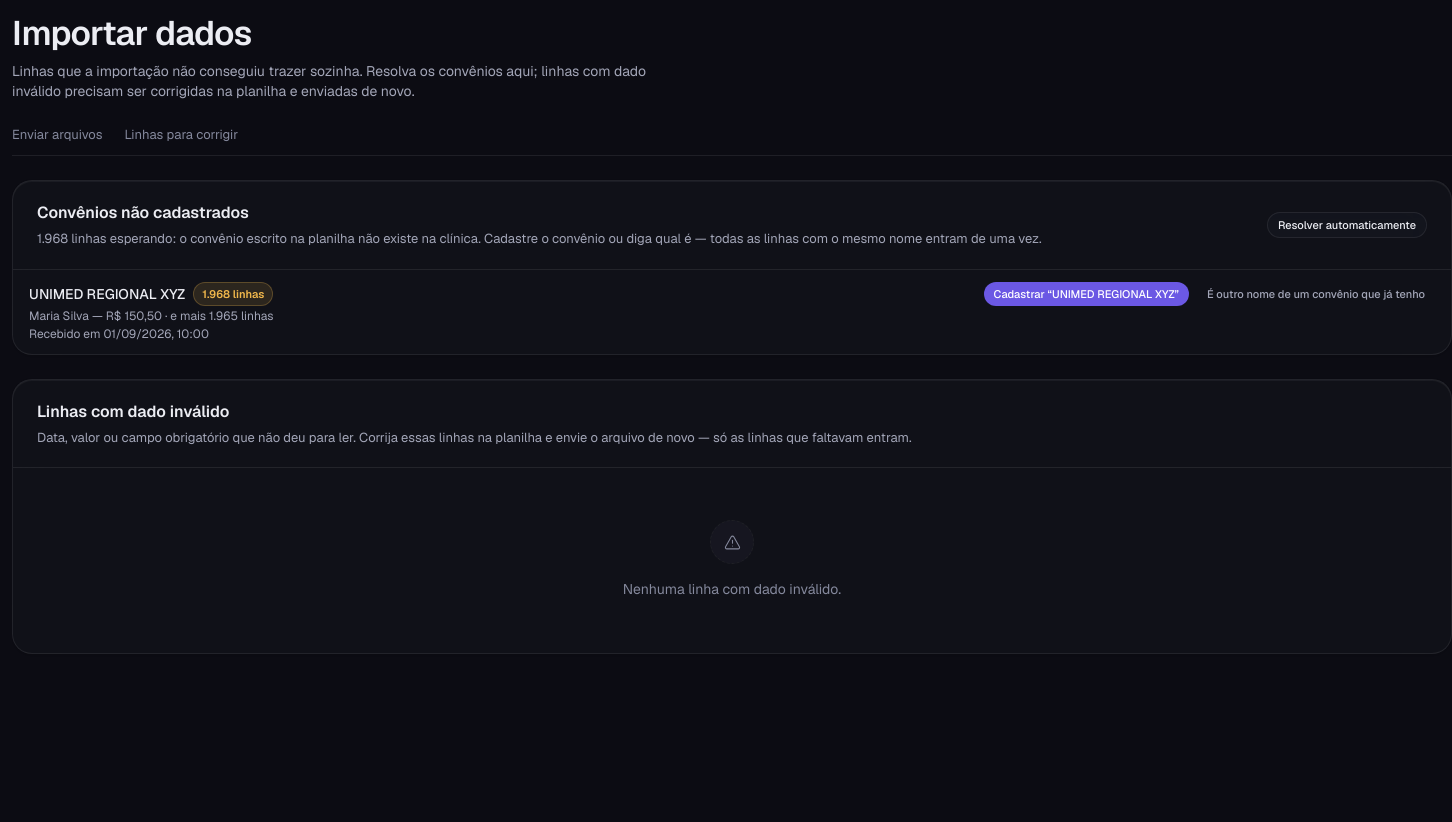
Test: SetupPage › mostra o erro quando resolver falha
Expected: the text "1.968 linhas" is shown, [193, 282, 273, 306]
Click the button "Cadastrar “UNIMED REGIONAL XYZ”": {"x": 1086, "y": 294} [984, 282, 1189, 306]
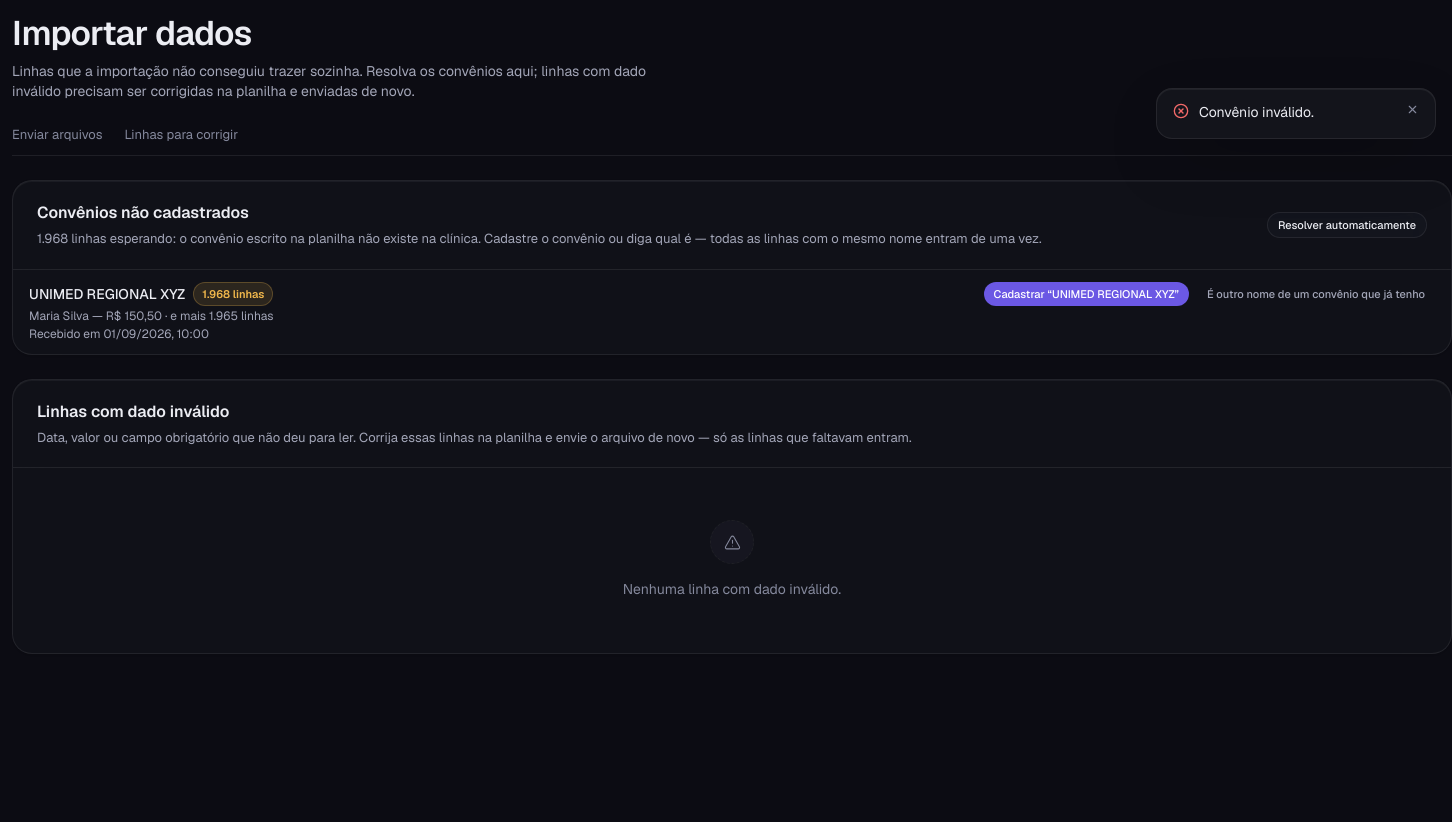
Now the text "Convênio inválido." is shown, box [1199, 103, 1314, 121]
